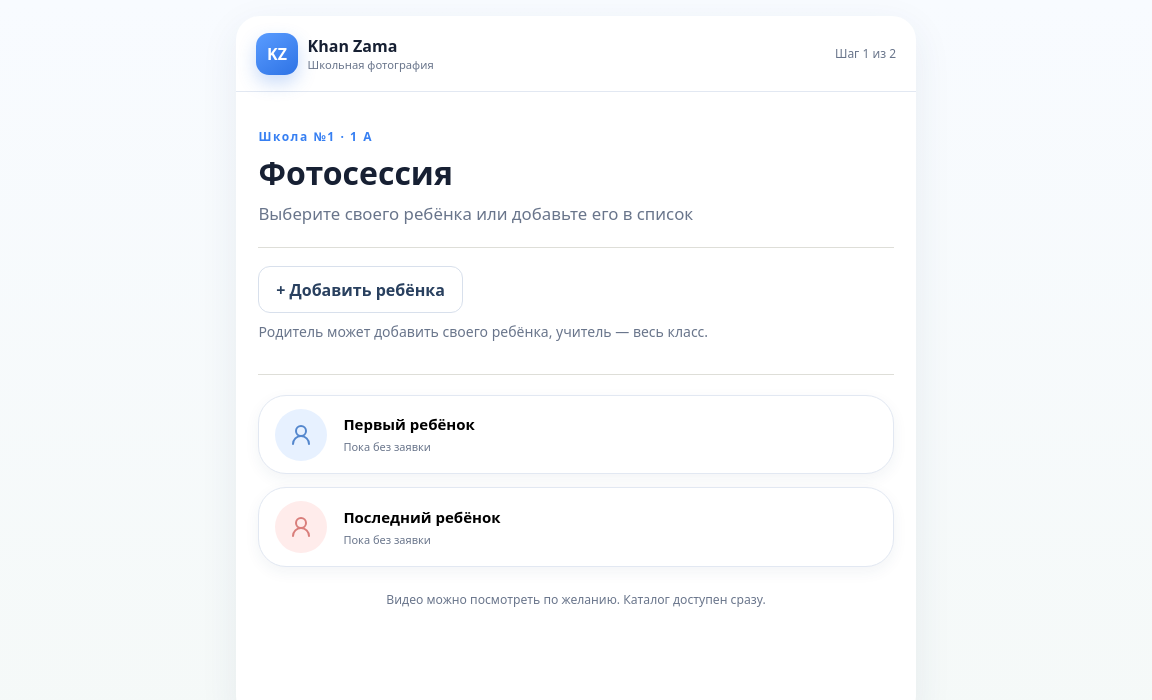
Test case: child to catalog navigation › opens the catalog at the top and restores the exact child-list position and focus
Later steps or results of the test are not shown.
(page scrolled)
Step 1. Click the button "Последний ребёнок Пока без заявки" → (301, 527), box [258,487,894,567]
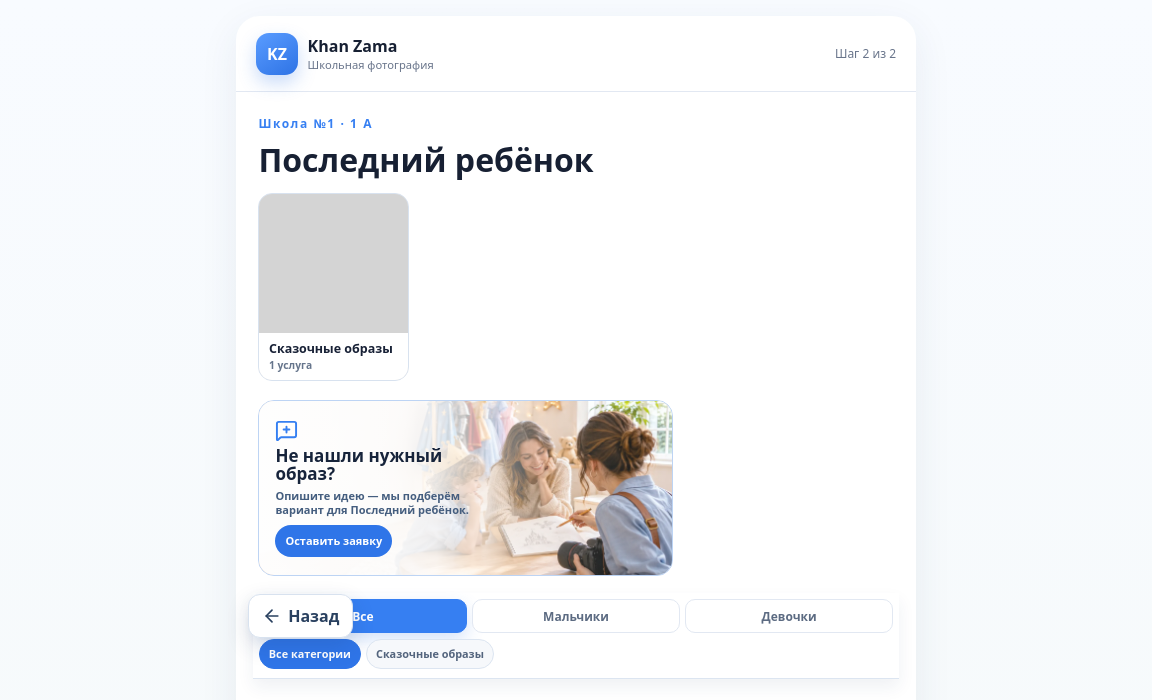
Now the button with aria-label "Назад к списку детей" is shown, box [248,594,353,638]
